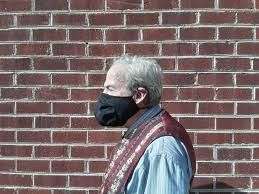with-mask: (93, 62, 153, 128)
